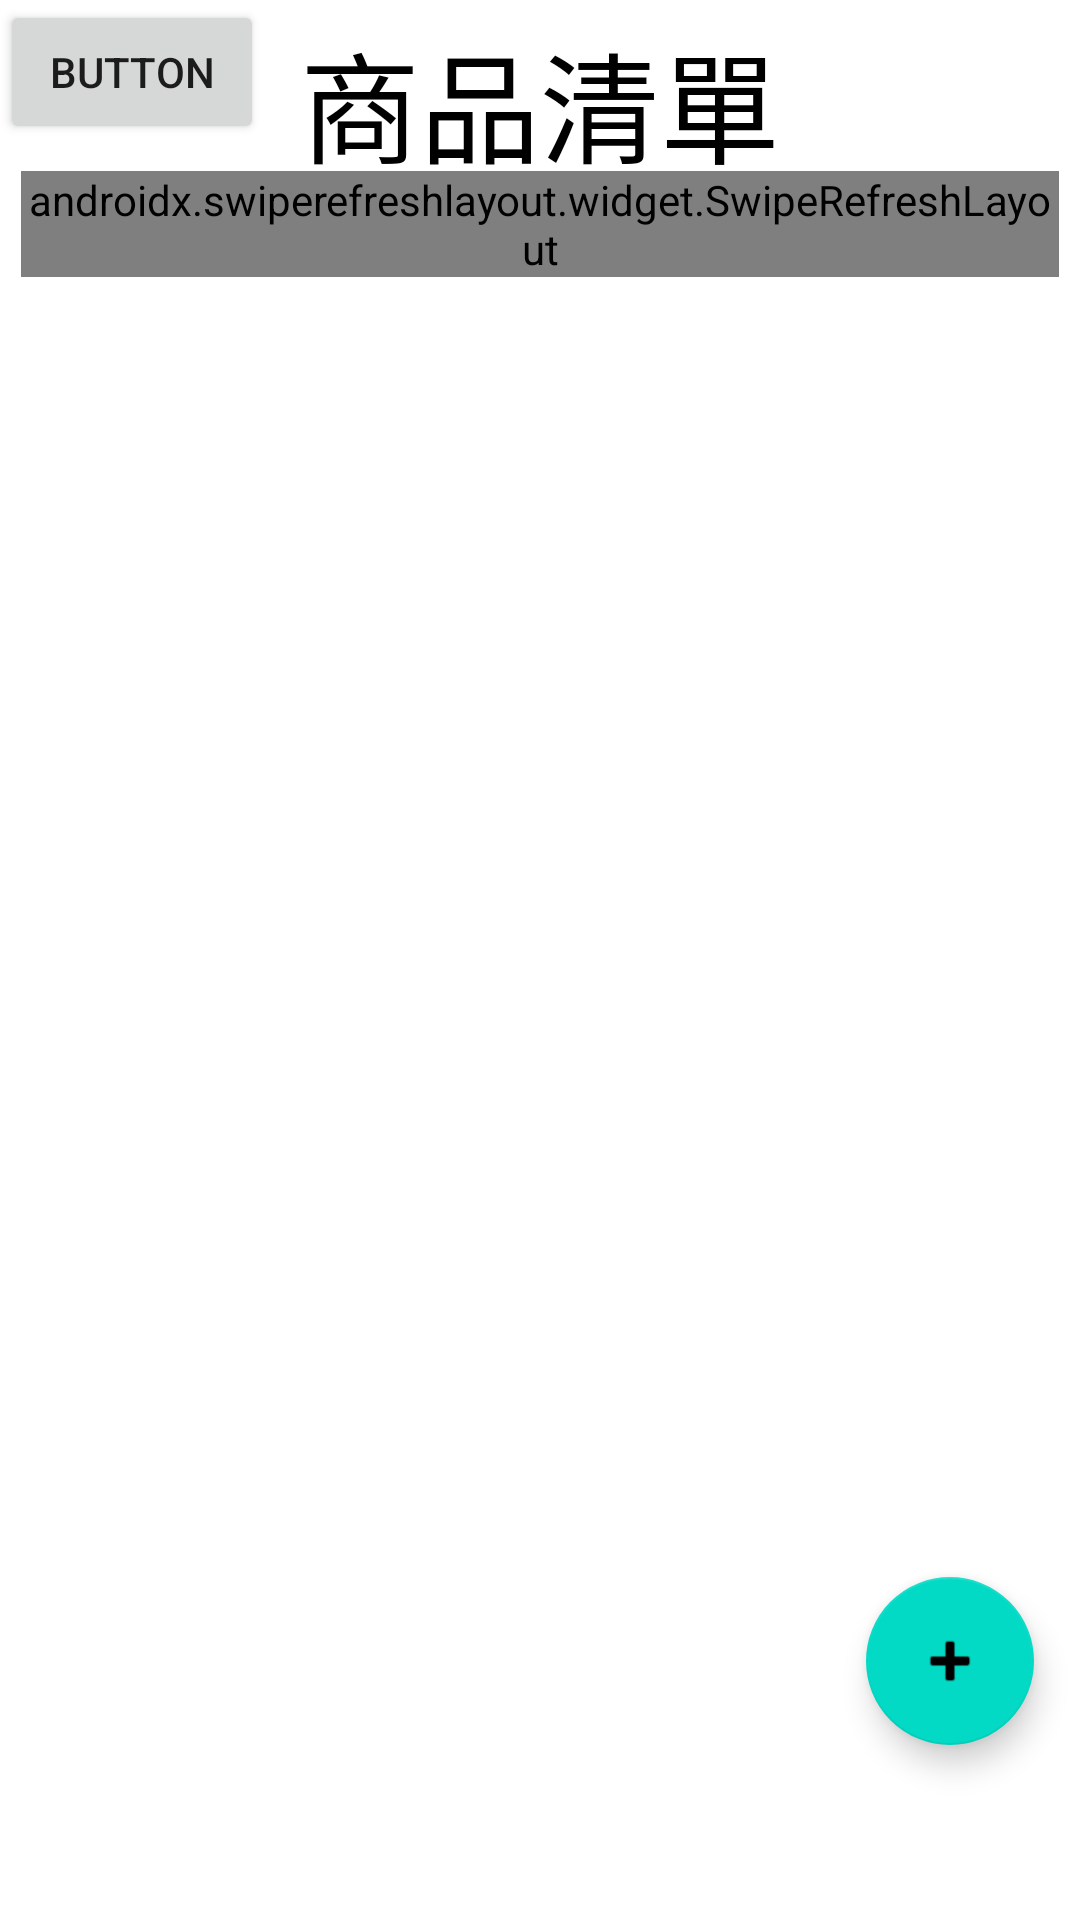

Where to tap for icons on this 1080px×1920px app screen, as point (x, y):
add: point (950, 1661)
